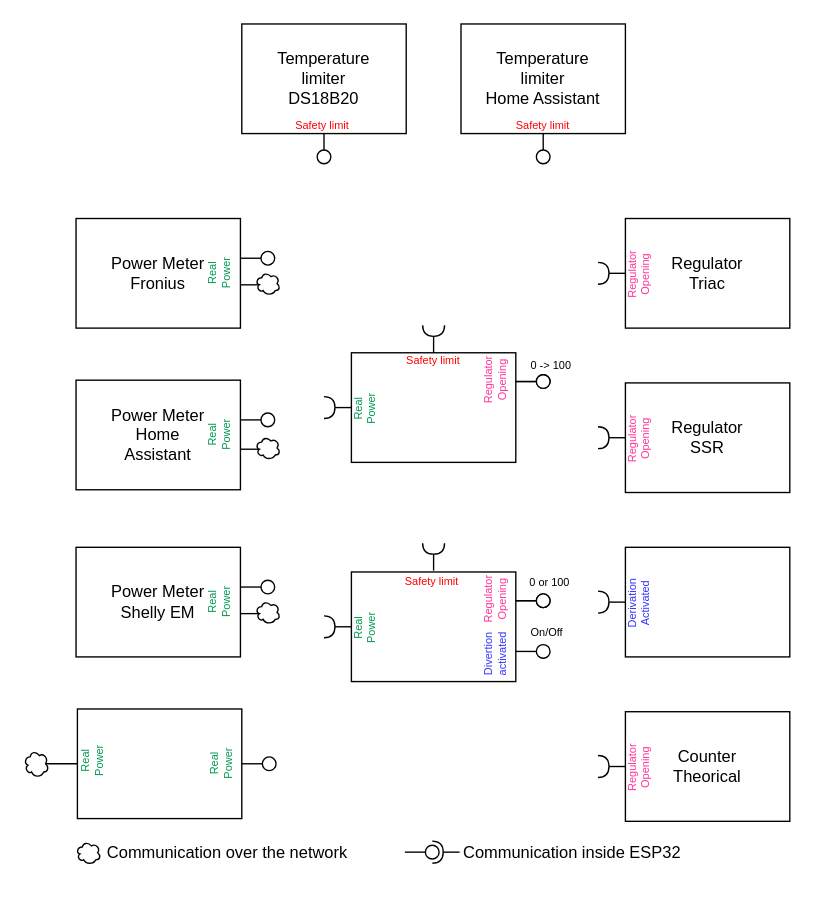
Image size: 814x897. Some labels were removed from this diagram. The box of each missing label's shape, as (x1, y1, x2, y2) in pixels:
Engine On Off: (350, 571, 516, 682)
Engine variable: (350, 351, 516, 462)
Power Meter Proxy Client: (76, 708, 242, 819)
Regulator Meca. Relay: (624, 546, 790, 657)
